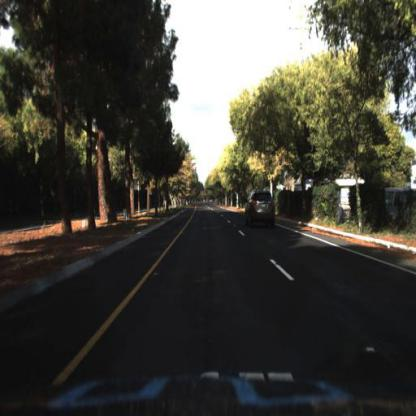car: (243, 188, 281, 228)
